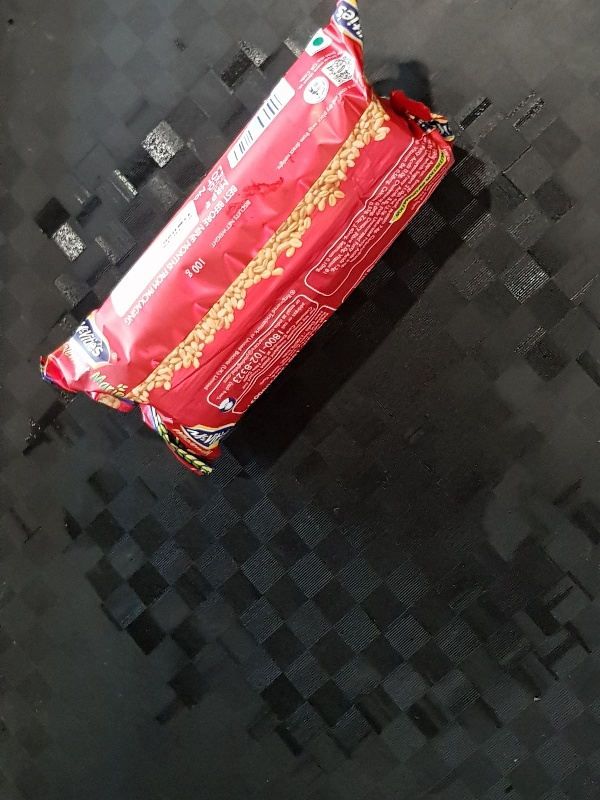McVitie's Wholewheat Marie: (40, 1, 451, 476)
